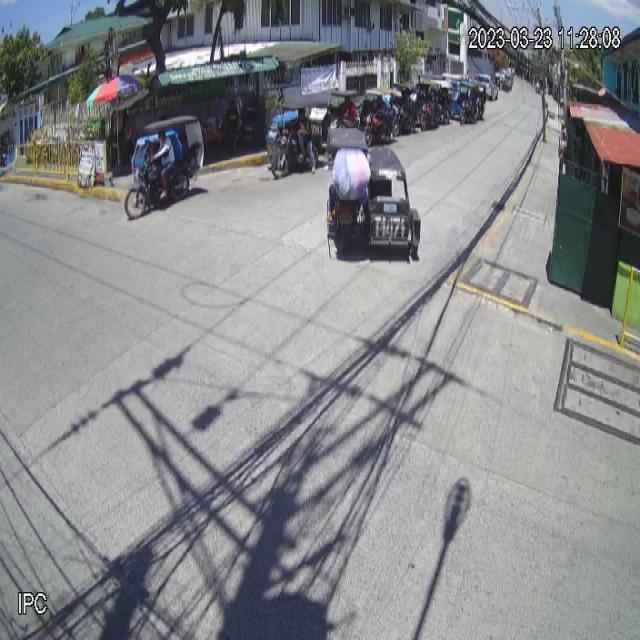Tricycle: (327, 125, 423, 262), (123, 113, 205, 219)
